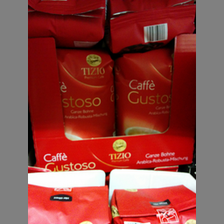coffee: (57, 46, 116, 139), (114, 49, 173, 136)
